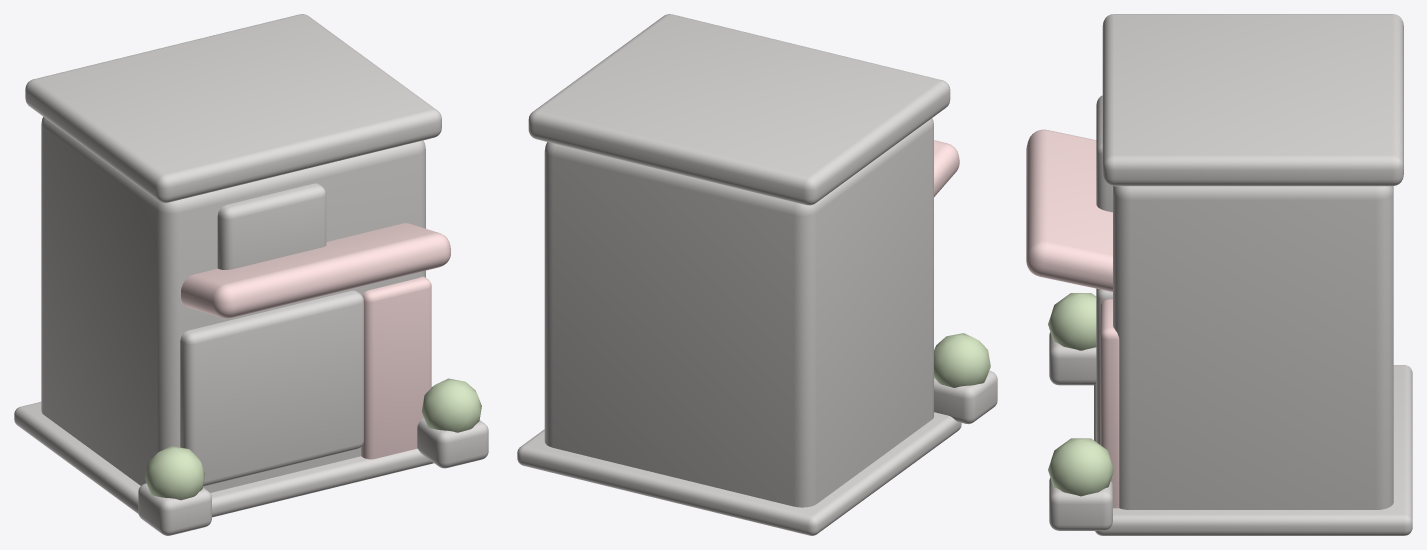
File: dukkan.glb
3 views of the same model, side by side, from view 1: azimuth 30°, elevation 25°; view 2: azimuth 150°, elevation 25°; view 3: azimuth 270°, elevation 25° (orthographic). The views are drawn at different scales.
Visible parts, largest first — view 1: govde, parapet, vitrin_cerceve, tente, kapi, taban, ust_cerceve, saksi0, yesil0, yesil1, saksi1; view 2: govde, parapet, taban, yesil0, saksi0, tente; view 3: govde, parapet, tente, taban, kapi, yesil1, saksi1, yesil0, saksi0, ust_cerceve, vitrin_cerceve.
Part boxes in pixels (x1,y1,x2,y2): govde: (41, 117, 425, 492); parapet: (25, 14, 441, 202); vitrin_cerceve: (180, 290, 363, 486); tente: (181, 223, 450, 318); kapi: (361, 276, 431, 459); taban: (14, 402, 433, 517); ust_cerceve: (217, 183, 326, 269); saksi0: (138, 483, 211, 535); yesil0: (145, 446, 205, 500); yesil1: (422, 378, 481, 432); saksi1: (417, 418, 488, 468); govde: (544, 118, 933, 507); parapet: (528, 14, 950, 205); taban: (517, 412, 961, 535); yesil0: (934, 333, 990, 387); saksi0: (934, 371, 997, 424); tente: (934, 140, 959, 196); govde: (1113, 186, 1393, 509); parapet: (1102, 14, 1403, 186); tente: (1026, 129, 1112, 291); taban: (1094, 365, 1412, 535); kapi: (1100, 299, 1119, 508); yesil1: (1048, 438, 1113, 496); saksi1: (1049, 478, 1112, 530); yesil0: (1048, 293, 1096, 350); saksi0: (1049, 332, 1096, 385); ust_cerceve: (1096, 95, 1112, 212); vitrin_cerceve: (1096, 288, 1112, 444).
Size of the model in its own units: 3.2 by 3.25 by 3.03.
